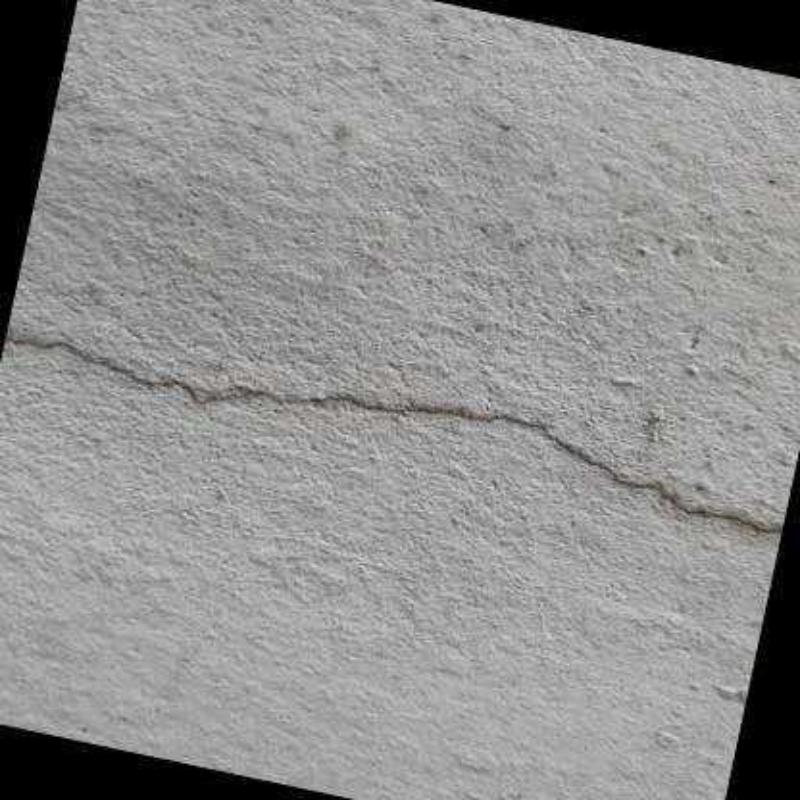pothole: (5, 337, 782, 533)
